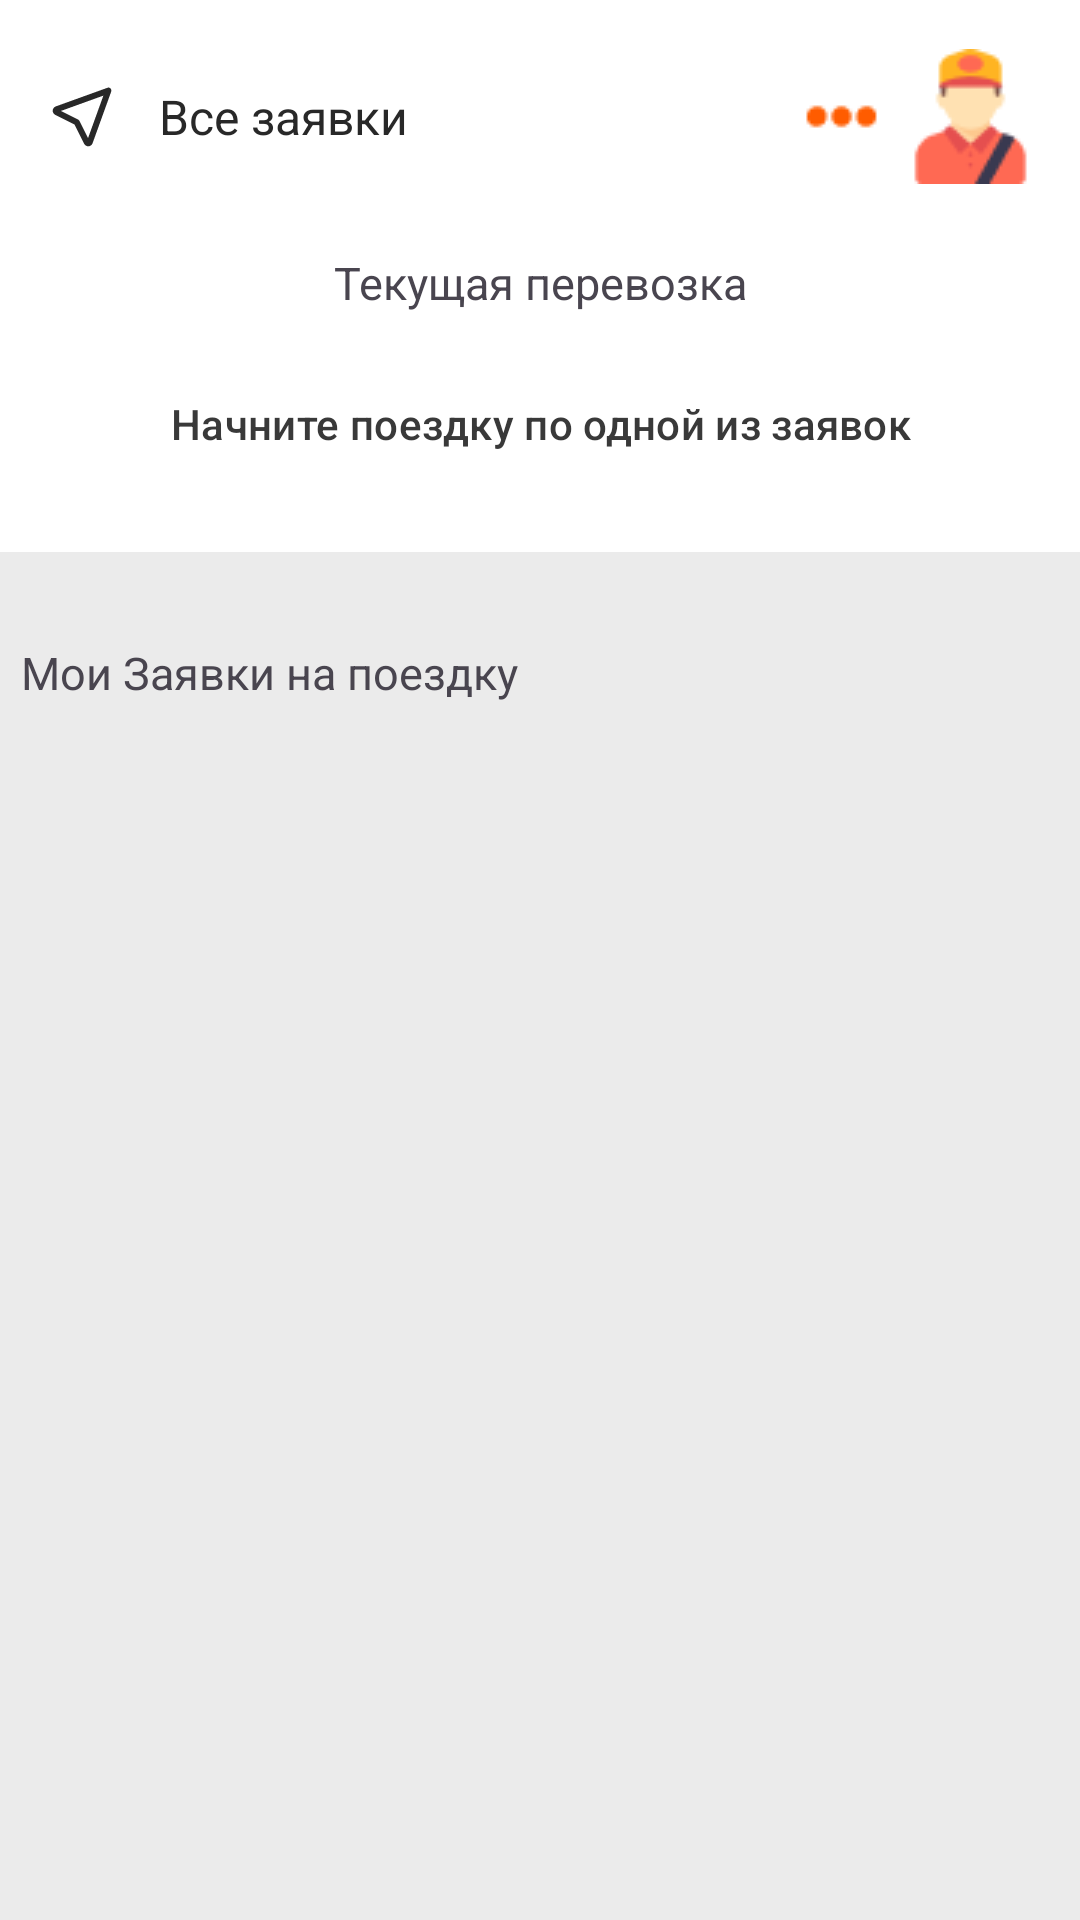

Icons on this 1080×1920 Android screen, each with the point to tap as (x=x, y=y):
pointer: (x=82, y=117)
